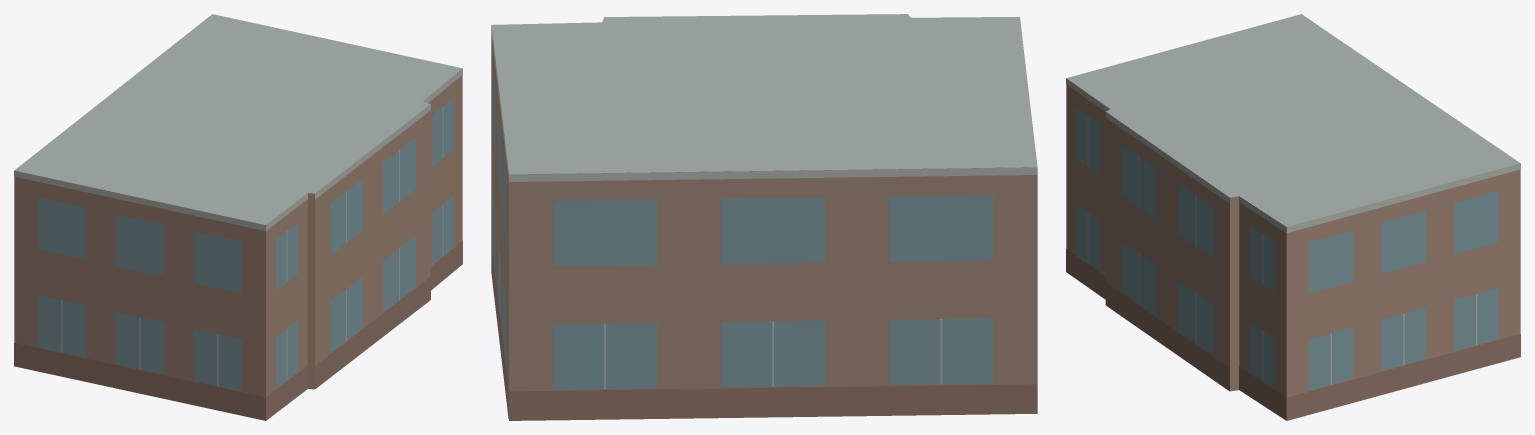
The model's file is survey-upis-32625083.glb.
3 renders of one model, left to right at view 1: azimuth 30°, elevation 25°; view 2: azimuth 150°, elevation 25°; view 3: azimuth 270°, elevation 25°, orthographic. The views are drawn at different scales.
Parts seen in each view (by area): view 1: survey-upis-32625083.tmp; view 2: survey-upis-32625083.tmp; view 3: survey-upis-32625083.tmp.
Part boxes in pixels (<box>): survey-upis-32625083.tmp: <box>14,14,462,420</box>; survey-upis-32625083.tmp: <box>491,14,1037,420</box>; survey-upis-32625083.tmp: <box>1066,14,1520,420</box>.
Size of the model in its own units: 18.41 by 7.8 by 16.6.
